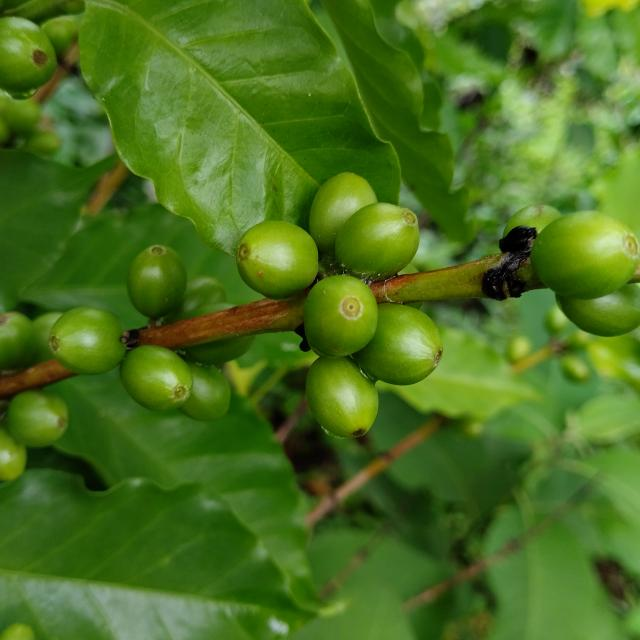green: (531, 210, 640, 299), (352, 303, 443, 386), (335, 202, 420, 281), (335, 202, 420, 281), (236, 221, 318, 299), (236, 221, 318, 299), (304, 275, 378, 357), (304, 275, 378, 357), (306, 356, 379, 438), (306, 356, 379, 438), (309, 172, 377, 254), (309, 172, 377, 254), (48, 307, 126, 375), (119, 345, 192, 411), (119, 345, 192, 411), (126, 245, 187, 320), (557, 284, 640, 337), (557, 284, 640, 337), (6, 391, 67, 448), (179, 362, 231, 421), (179, 362, 231, 421), (167, 276, 226, 322), (184, 336, 255, 365), (503, 204, 562, 237), (179, 302, 235, 319)
